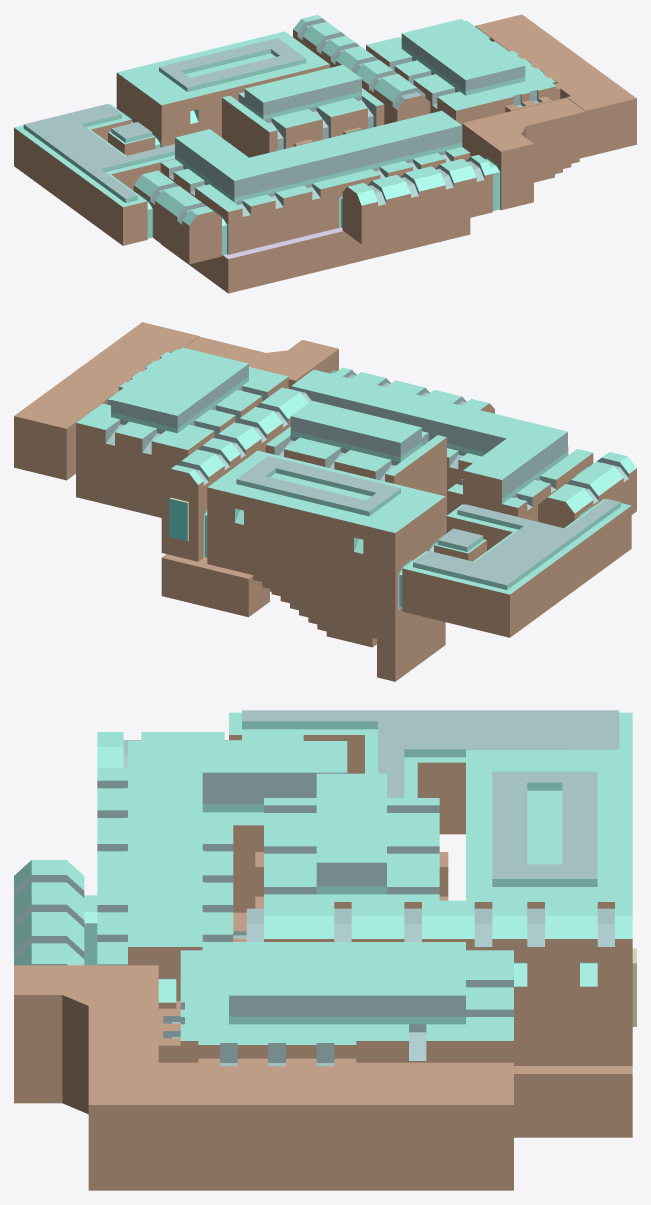
File: Q1DM1blend.fbx
3 renders of one model, top to bottom at view 1: azimuth 30°, elevation 25°; view 2: azimuth 150°, elevation 25°; view 3: azimuth 270°, elevation 25°, orthographic. The views are drawn at different scales.
Parts seen in each view (by area): view 1: bsp_model_0.001; view 2: bsp_model_0.001; view 3: bsp_model_0.001.
Boxes of the visible parts, box(x1,y1,x2,y2) form: bsp_model_0.001: box(14, 14, 636, 293); bsp_model_0.001: box(14, 322, 636, 681); bsp_model_0.001: box(14, 710, 636, 1190).
Bounding box in the file's own units: 5800 × 1750 × 3550.
